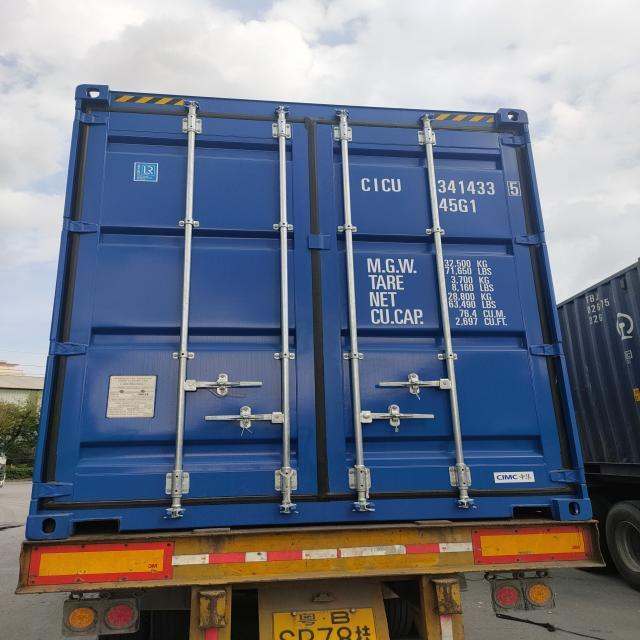ISO: (434, 198, 480, 213)
container_number: (348, 166, 526, 196)
